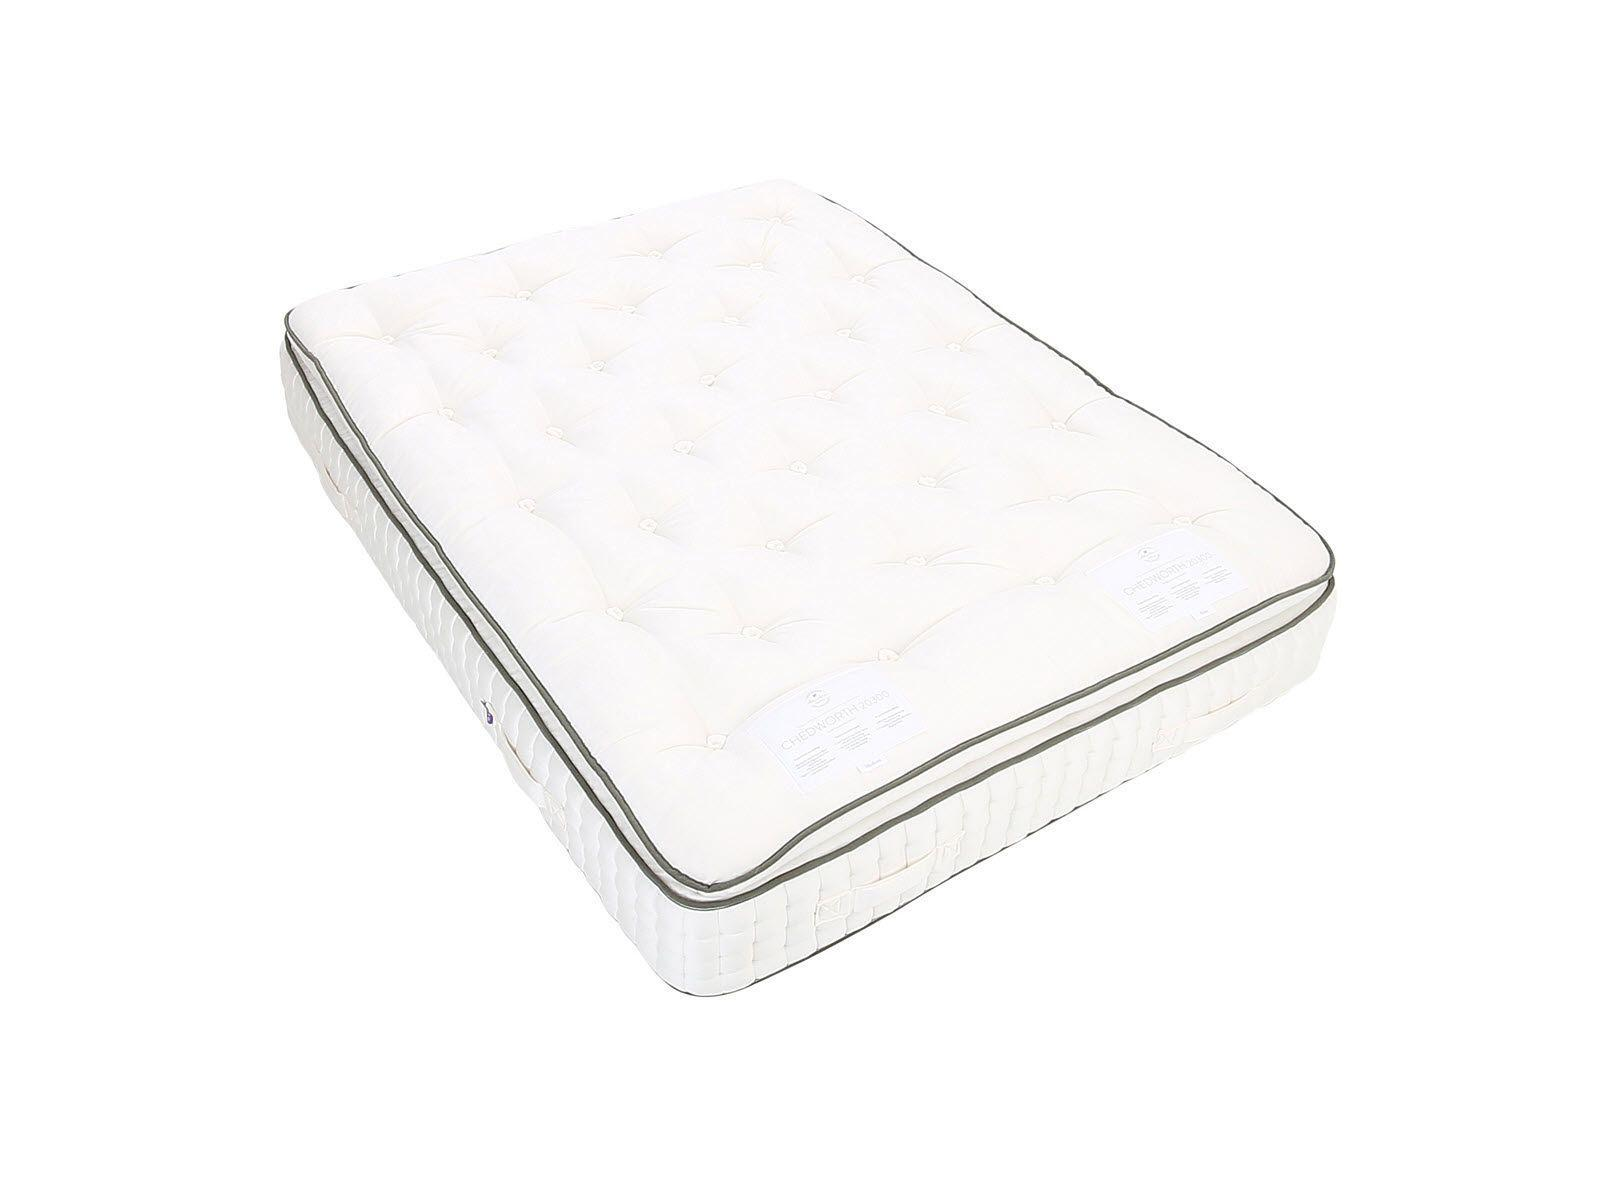Bed-Mattress: (209, 156, 1426, 1032)
